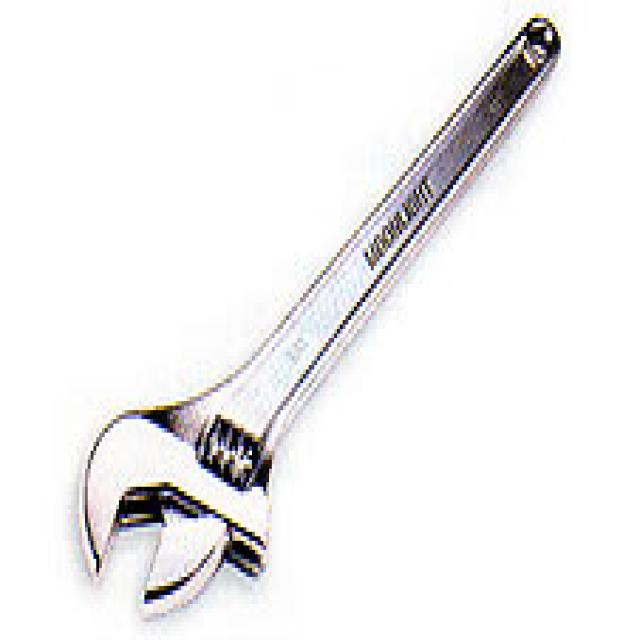wrench: (42, 19, 554, 620)
